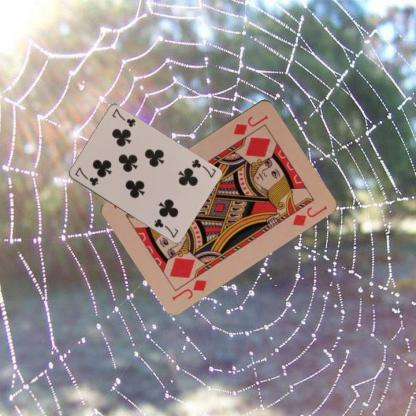7c: (72, 165, 100, 187), (189, 157, 217, 179)
Jd: (169, 276, 209, 301), (230, 112, 270, 136)
